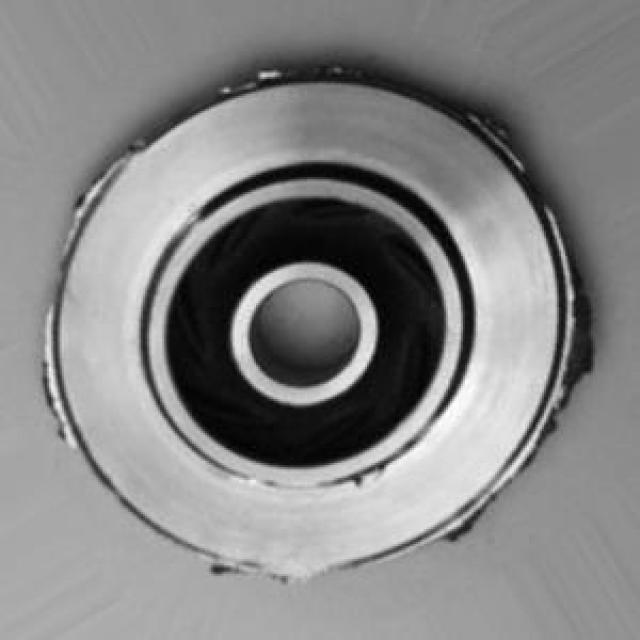Defect: (562, 279, 595, 366), (480, 102, 514, 154)
